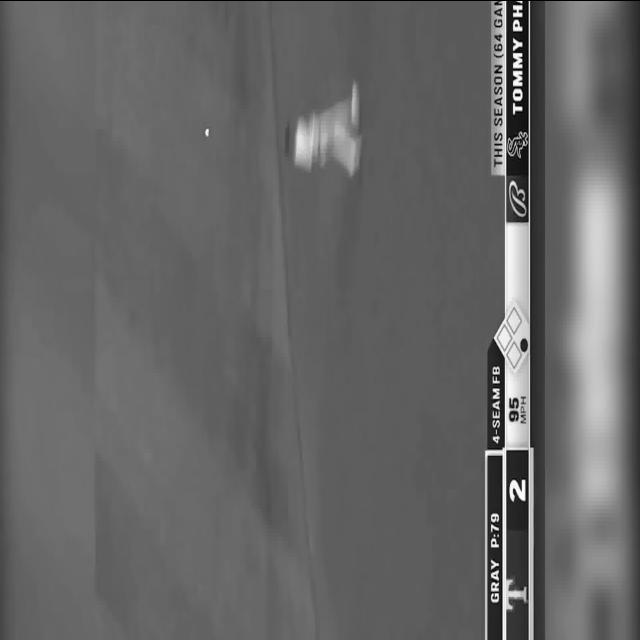baseball: (204, 127, 210, 137)
